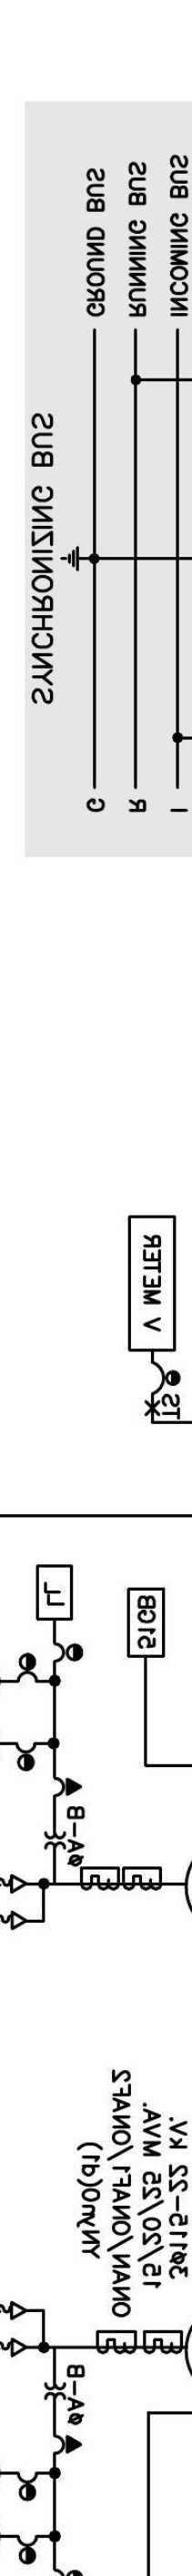LL: (35, 1564, 74, 1621)
terminator_double: (10, 2300, 46, 2359), (10, 1874, 45, 1931)
v_m_digital: (126, 1215, 177, 1353)
